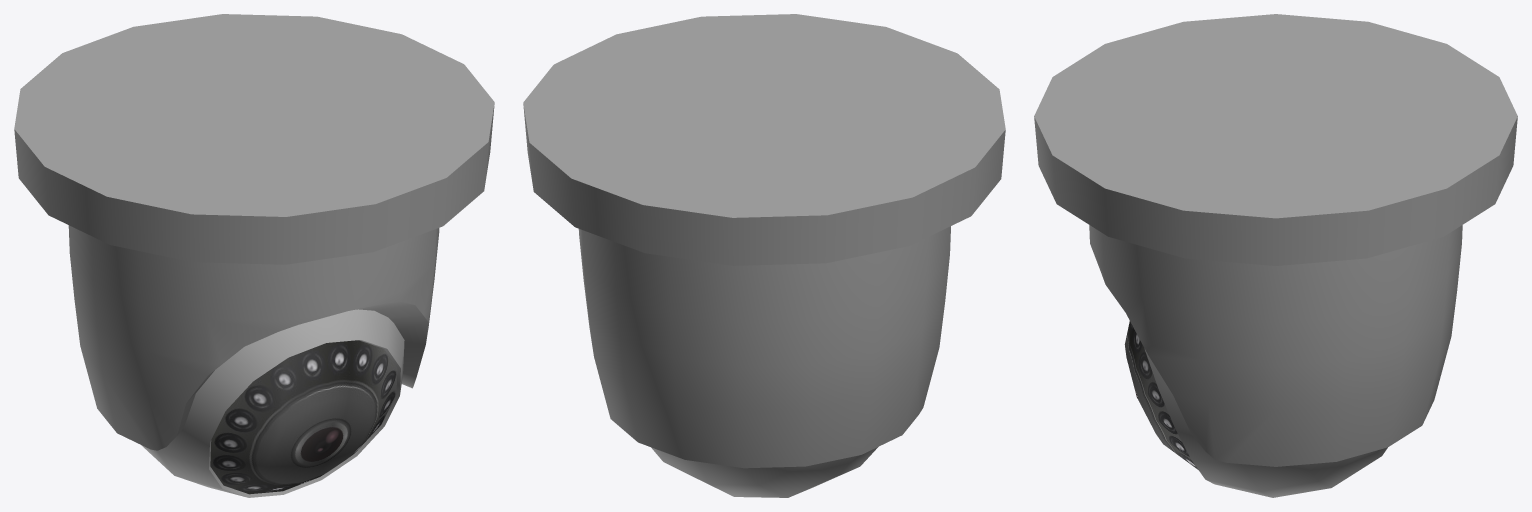
Rendered from CCTV.obj.
3 renders of one model, left to right at view 1: azimuth 30°, elevation 25°; view 2: azimuth 150°, elevation 25°; view 3: azimuth 270°, elevation 25°, orthographic.
Visible parts, largest first — view 1: Circle, Sphere; view 2: Circle, Sphere; view 3: Circle, Sphere.
Part boxes in pixels (x1,y1,x2,y2): Circle: (14,14,494,450); Sphere: (141,309,404,497); Circle: (523,14,1005,468); Sphere: (651,447,877,497); Circle: (1034,14,1517,466); Sphere: (1124,321,1387,497).
Bounding box in the file's own units: 14 × 11.74 × 14.
